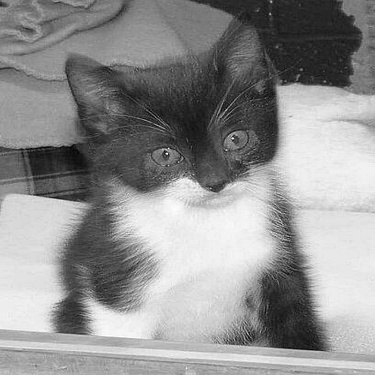cat: (50, 14, 329, 356)
